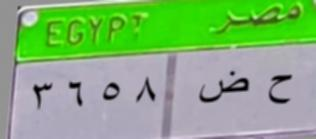3: (28, 76, 57, 115)
5: (95, 77, 125, 105)
6: (63, 75, 89, 112)
7aa: (264, 68, 296, 109)
8: (132, 73, 162, 107)
daad: (200, 67, 250, 112)
